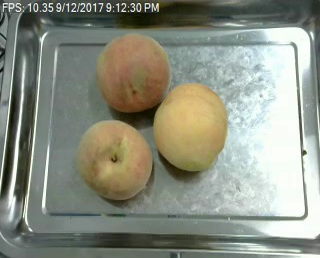Peach: (153, 82, 228, 171), (77, 120, 152, 200), (96, 32, 171, 111)
